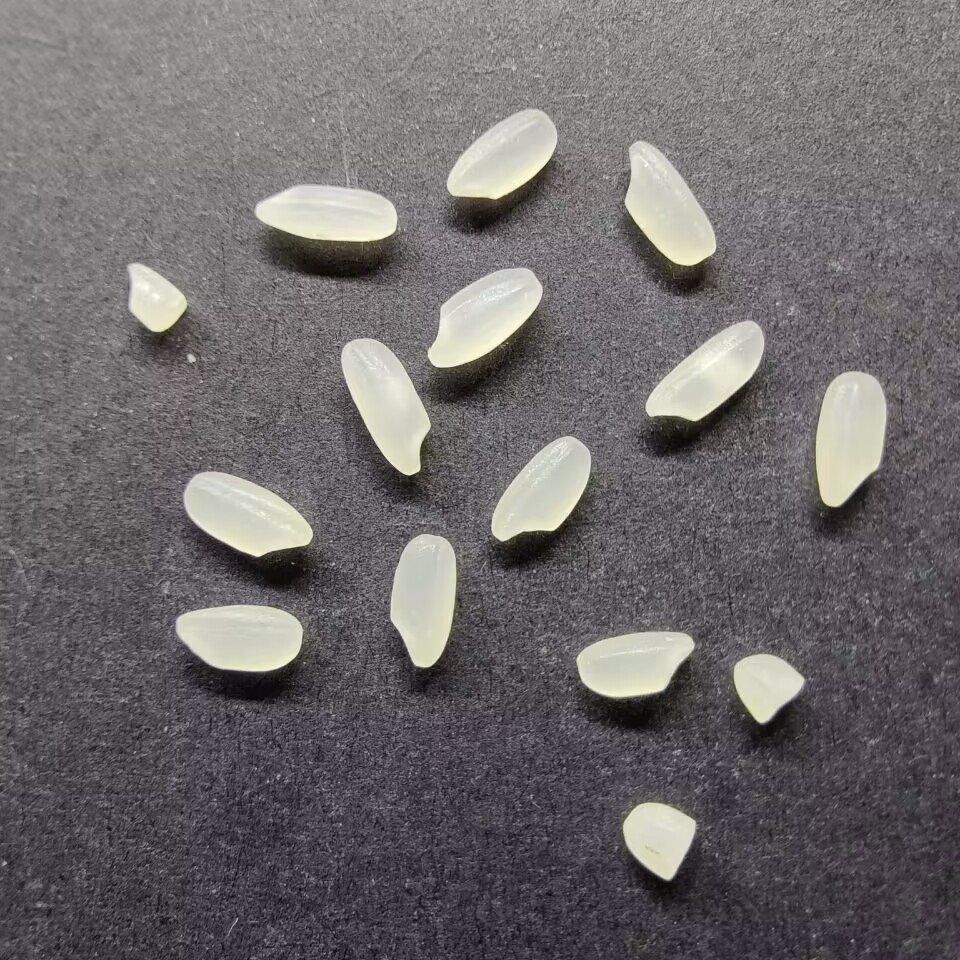broken: (620, 802, 701, 883), (731, 653, 809, 725), (120, 260, 188, 334)
rice: (340, 335, 432, 478), (642, 318, 766, 422), (622, 139, 719, 267), (425, 265, 544, 369), (181, 470, 314, 559), (490, 434, 594, 543), (444, 107, 559, 201), (813, 369, 888, 509), (388, 533, 457, 670), (173, 603, 303, 675), (249, 183, 400, 241), (575, 630, 697, 698)
